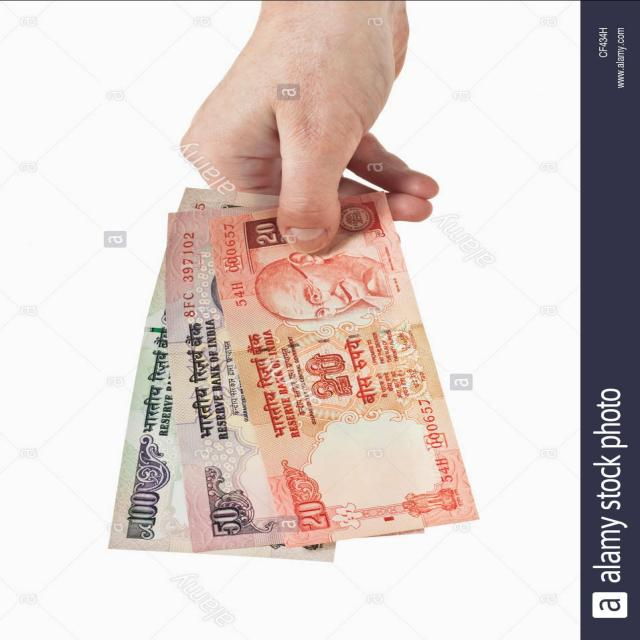20IndianRupees: (205, 195, 473, 548)
